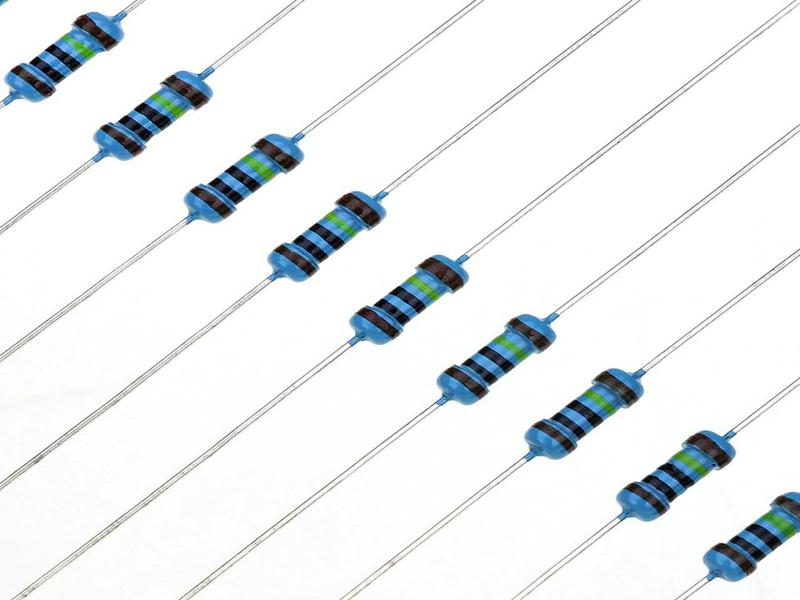resistor: (255, 164, 406, 309), (424, 286, 579, 427), (337, 232, 482, 376), (172, 106, 316, 249), (514, 345, 662, 481), (600, 411, 749, 546), (83, 48, 224, 186), (1, 1, 136, 119), (689, 476, 800, 599)
